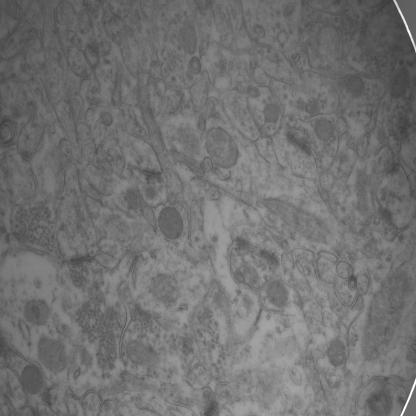mitochondria: (362, 265, 408, 364), (206, 124, 240, 168), (34, 336, 67, 375), (149, 273, 185, 306), (20, 295, 55, 327), (157, 206, 184, 243), (18, 362, 44, 396), (126, 338, 156, 366), (264, 280, 291, 308), (178, 18, 198, 54), (389, 65, 410, 99), (344, 72, 369, 100), (327, 339, 348, 367), (314, 117, 334, 142), (262, 102, 282, 123)
